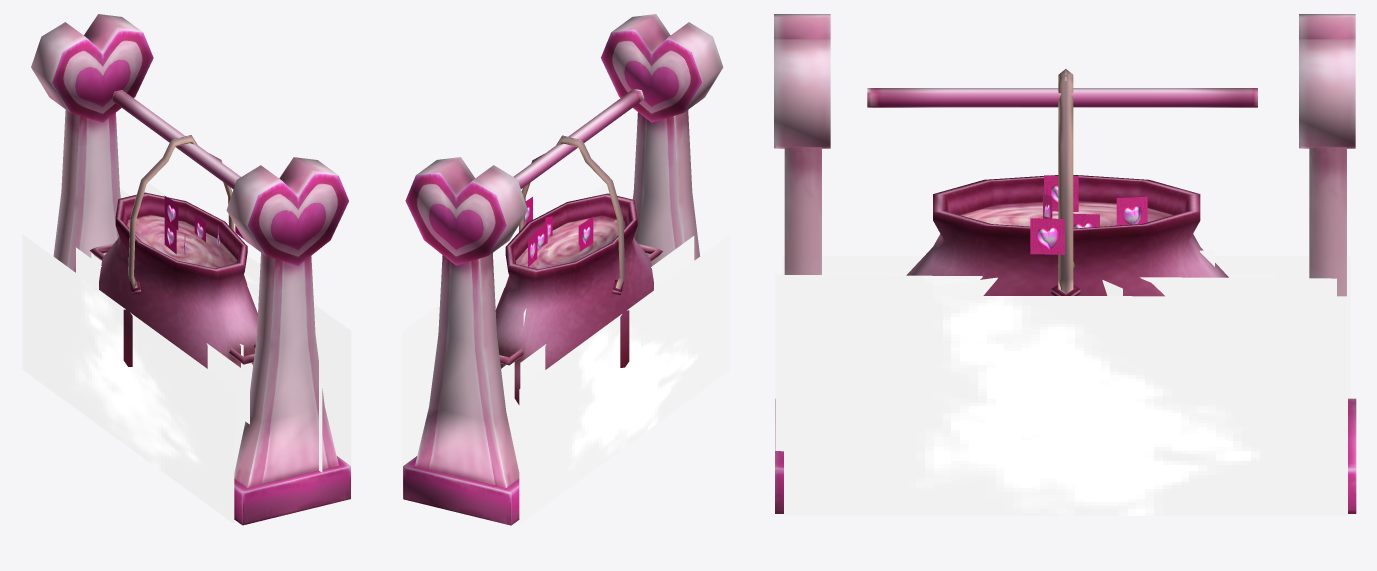
Rendered from a_SWApot03.glb.
3 views of the same model, side by side, from view 1: azimuth 30°, elevation 25°; view 2: azimuth 150°, elevation 25°; view 3: azimuth 270°, elevation 25° (orthographic). The views are drawn at different scales.
Parts seen in each view (by area): view 1: a_SWApot03; view 2: a_SWApot03; view 3: a_SWApot03.
Part boxes in pixels (x1,y1,x2,y2): a_SWApot03: [22, 14, 351, 525]; a_SWApot03: [402, 14, 730, 525]; a_SWApot03: [774, 14, 1356, 515].
Size of the model in its own units: 1 by 2.72 by 3.
Materials: 12 (12 with a texture image).
